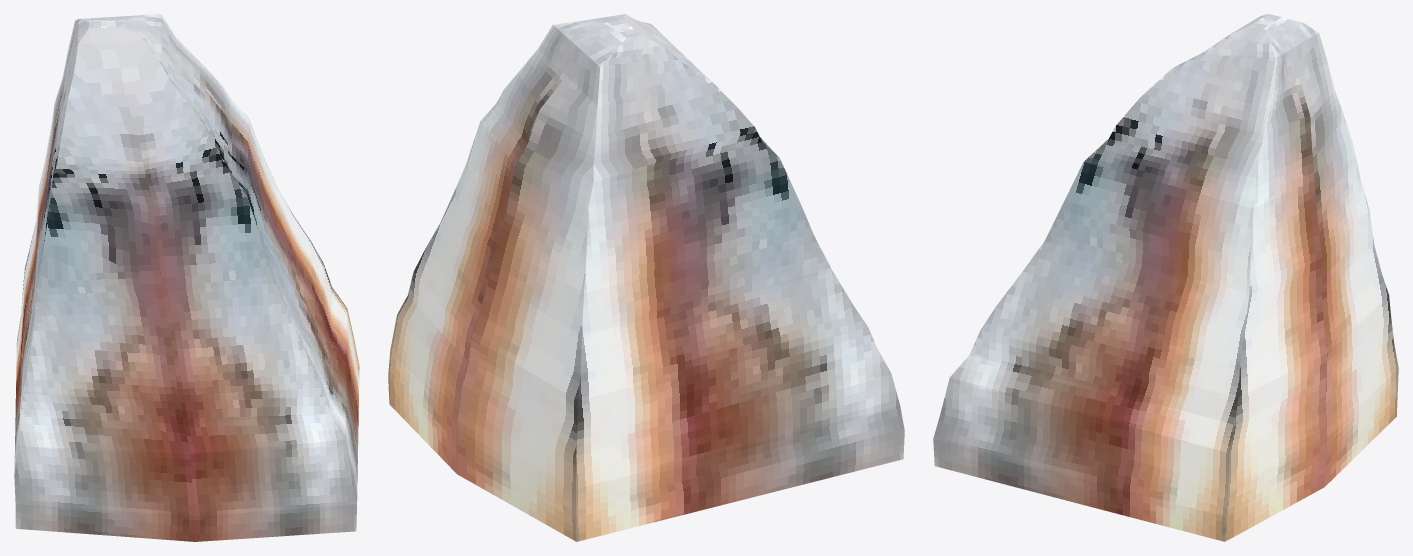
3 renders of one model, left to right at view 1: azimuth 30°, elevation 25°; view 2: azimuth 150°, elevation 25°; view 3: azimuth 270°, elevation 25°, orthographic. The views are drawn at different scales.
Visible parts, largest first — view 1: splice_2; view 2: splice_2; view 3: splice_2.
Boxes of the visible parts, x1=… form: splice_2: x1=14, y1=14, x2=359, y2=541; splice_2: x1=388, y1=14, x2=904, y2=541; splice_2: x1=933, y1=14, x2=1398, y2=541.
Bounding box in the file's own units: 0.8663 × 0.8403 × 0.8671.
Materials: 1 (1 with a texture image).
